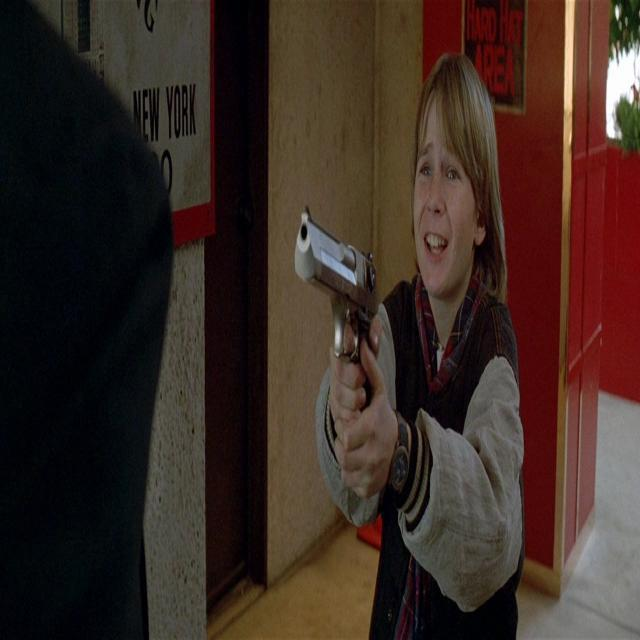gun-knife-thesis - v11 Yolov5 augmented: (290, 210, 398, 488)
